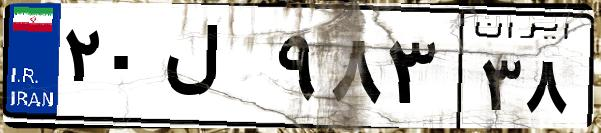0: (110, 28, 158, 98)
2: (57, 26, 110, 100)
3: (385, 28, 445, 110), (475, 38, 525, 113)
8: (330, 28, 385, 110), (525, 38, 570, 115)
9: (270, 28, 330, 110)
ل: (158, 20, 270, 120)
